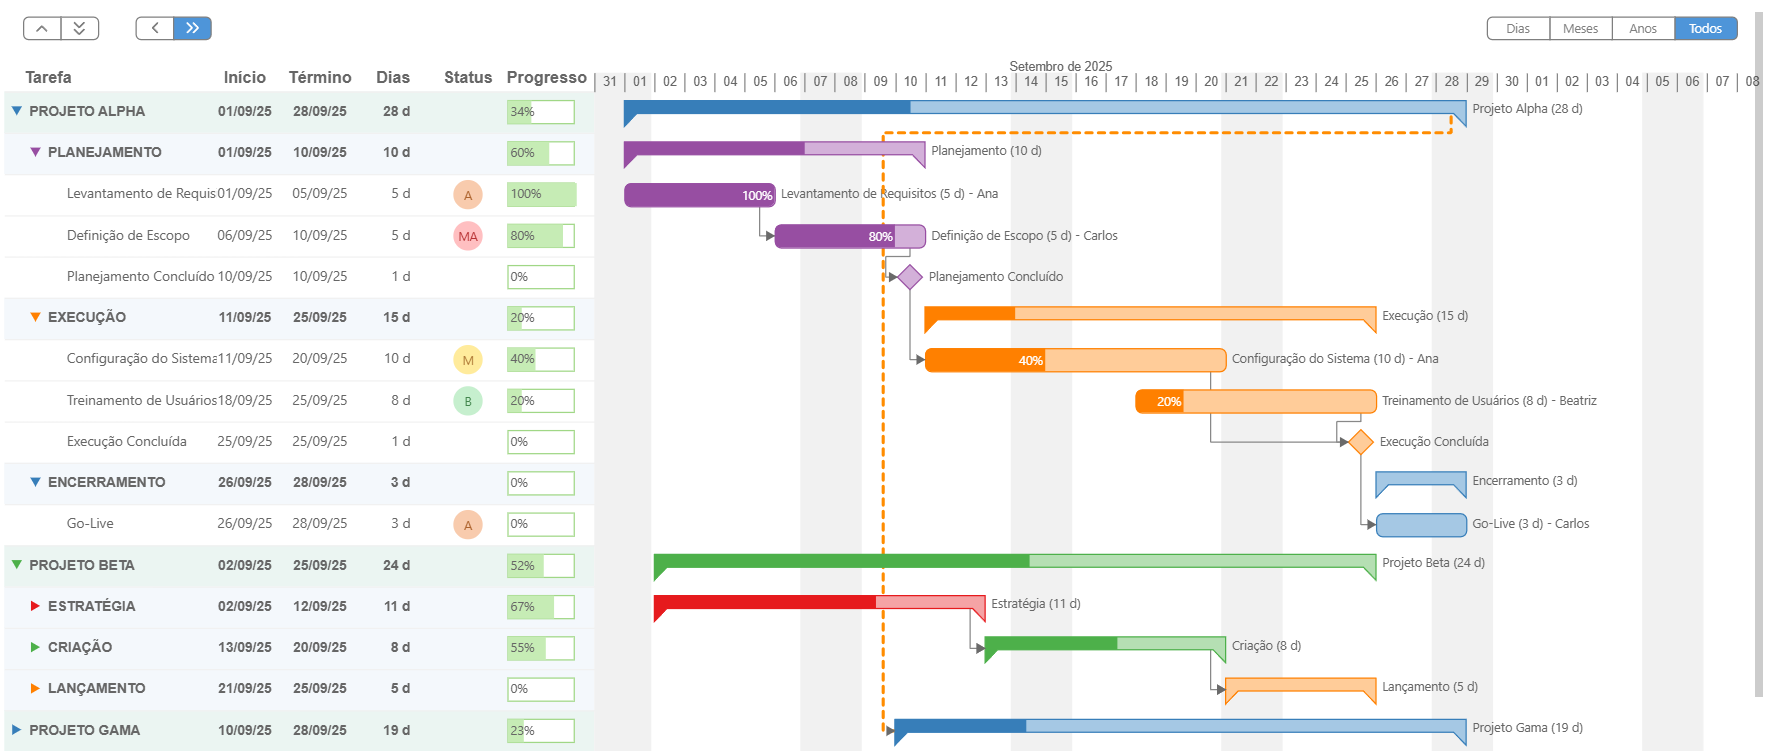

The page's visual inventory and layout, read from the dashboard file:
{"tool":"powerbi","page":{"name":"Gantt","canvas":[1600,1000],"ordinal":0},"visuals":[{"type":"deneb7E15AEF80B9E4D4F8E12924291ECE89A","fields":{"dataset":["Table.assignee","Table.completion","Table.dependencies","Table.end","Table.id","Table.hyperlink","Table.milestone","Table.phase","Table.start","Table.status","Table.task","Table.project"]},"box":[67.4,96.8,1466.8,848.3],"z":1}]}

Visuals, with their boxes on the page's 1600x1000 design canvas (x1, y1, x2, y2). These are canvas units, not pixel positions in the 1768x751 screenshot, which may show the page scaled, cropped or inside an application window:
deneb7E15AEF80B9E4D4F8E12924291ECE89A - Table.assignee x Table.completion: BBox(67, 97, 1534, 945)
